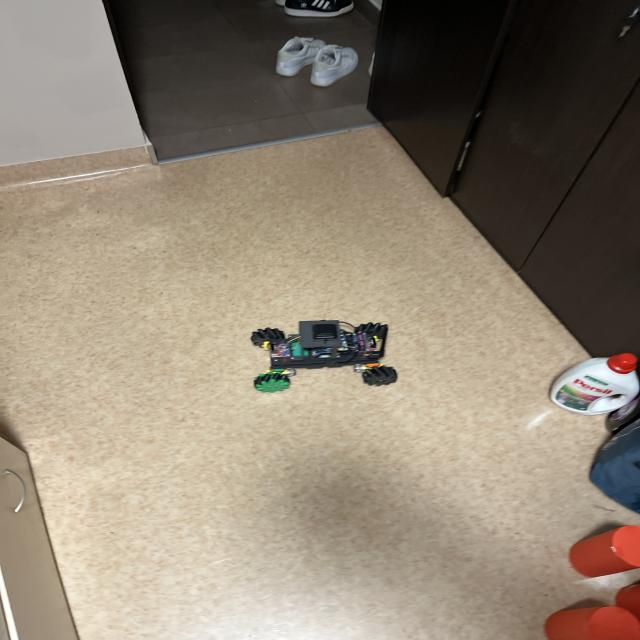robot: (251, 320, 397, 392)
